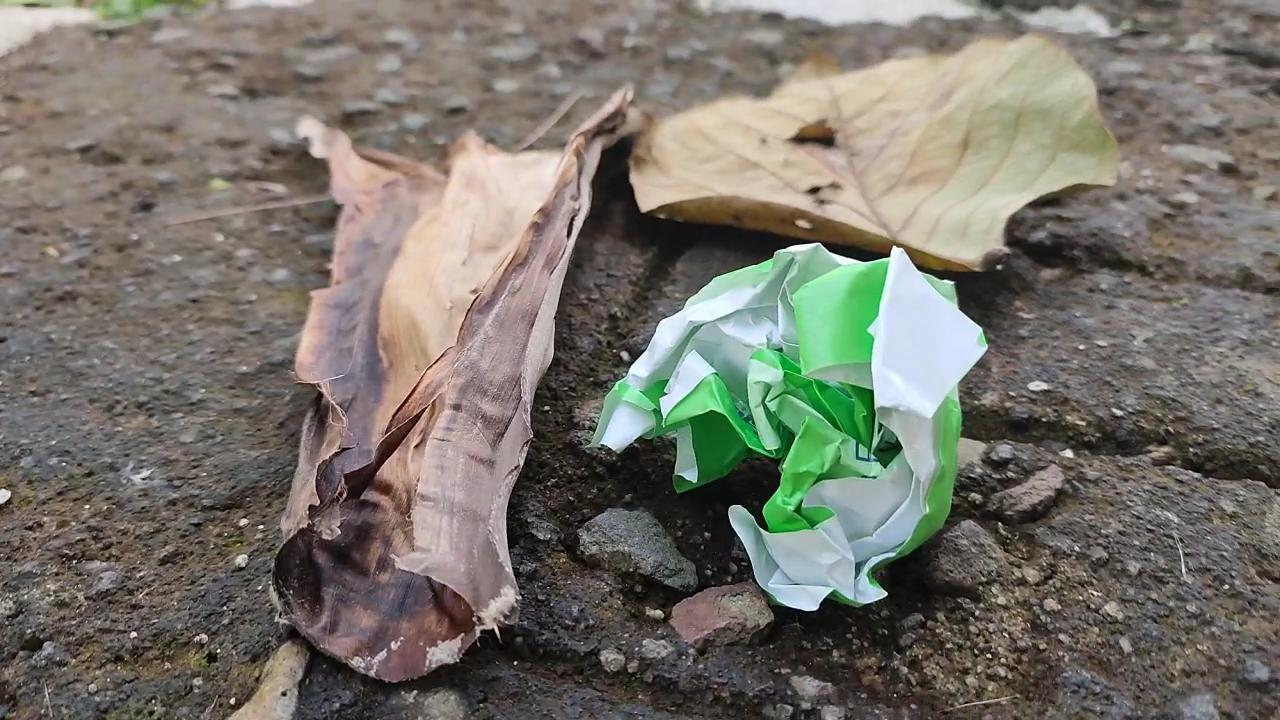Paper: (566, 232, 999, 640)
